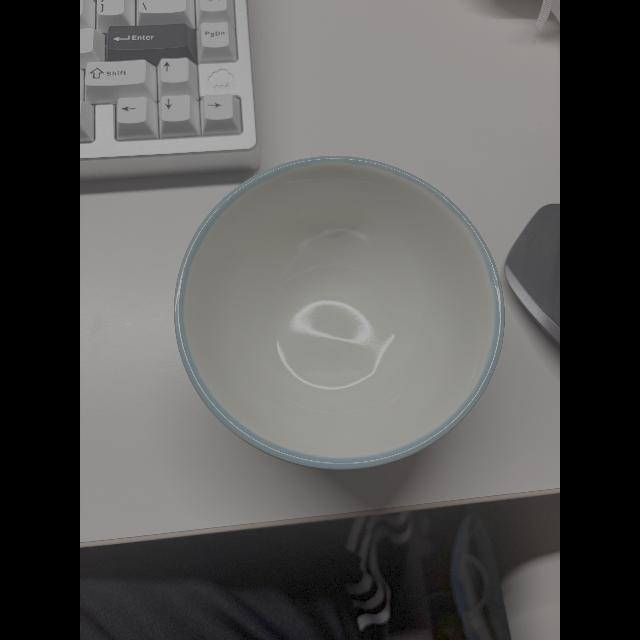bowl: (175, 158, 504, 469)
